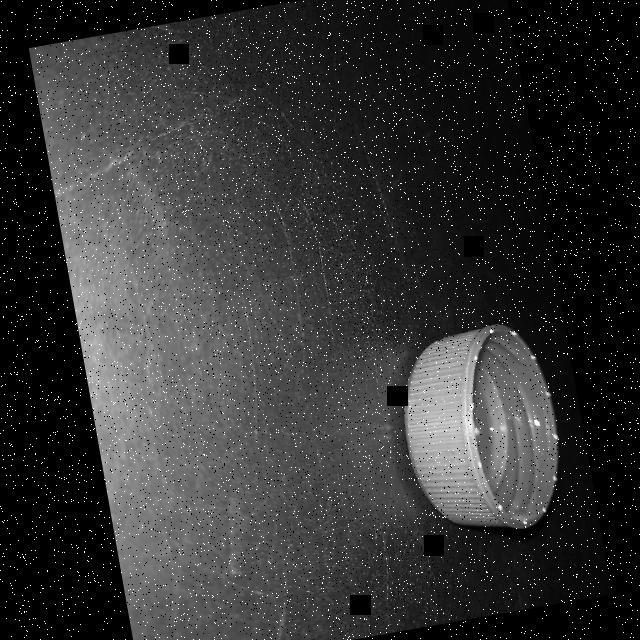plastic_bottle_cap: (388, 312, 575, 544)
